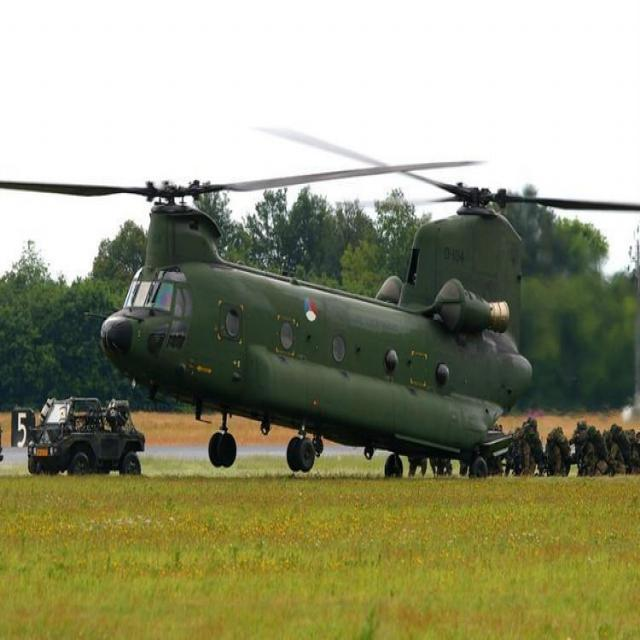MIL_HELO: (6, 102, 636, 498)
